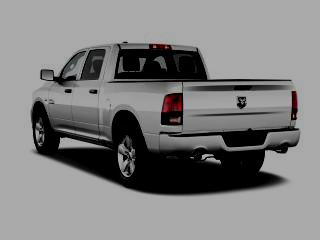ram: (235, 94, 249, 111)
